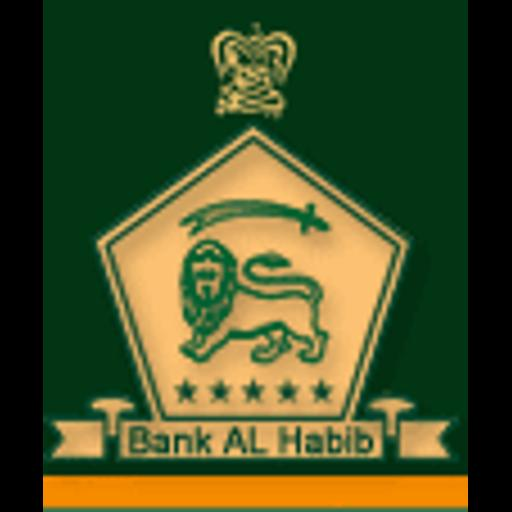Bank Al Habib: (43, 0, 468, 512)
